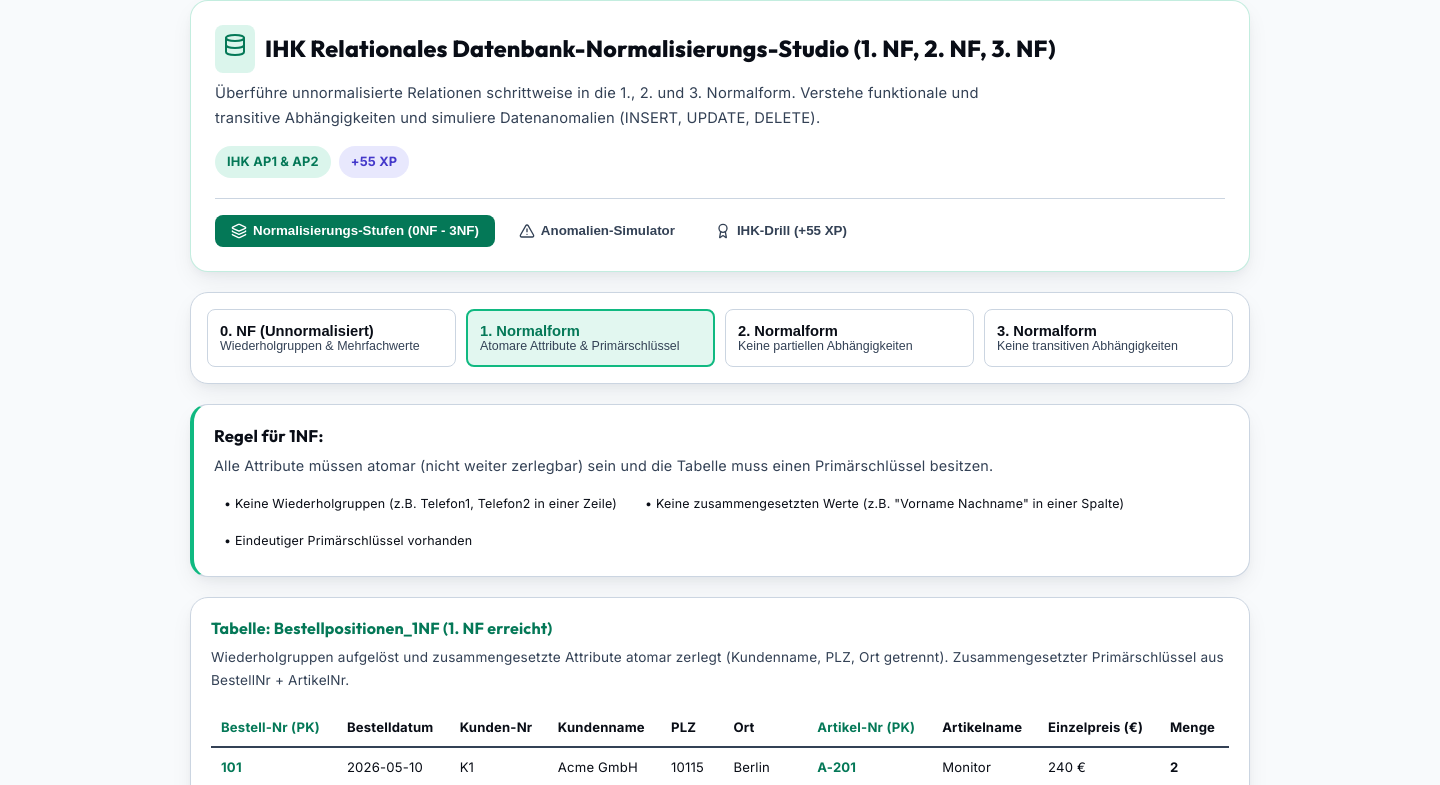
it: DatabaseNormalizationLab › wechselt zwischen Stufen 1NF, 2NF und 3NF
Step 1. Click the button "3. Normalform Keine transitiven Abhängigkeiten" → point(1108, 338), box top-left (984, 309), bottom-right (1233, 367)
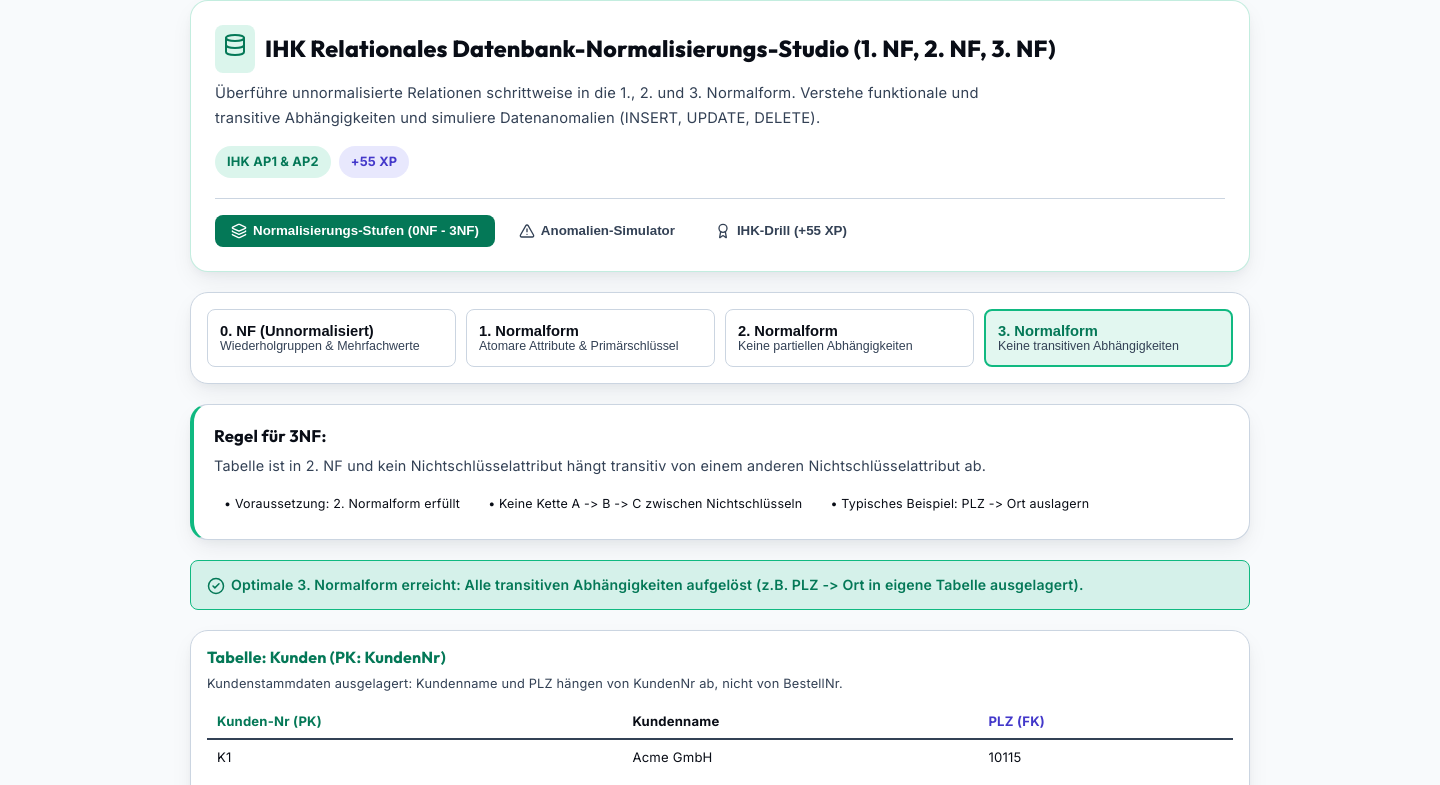
Expected: the text "Optimale 3. Normalform erreicht" is shown, top-left (231, 576), bottom-right (1084, 593)
